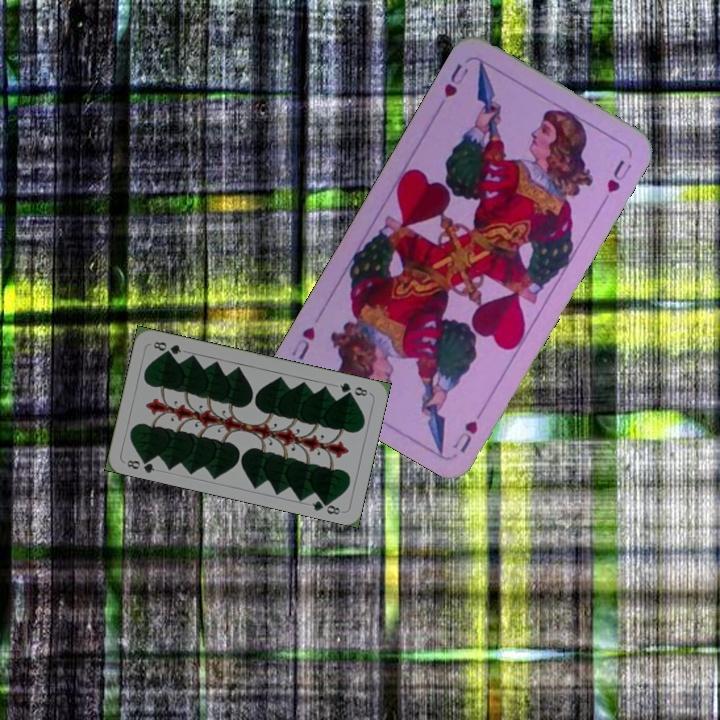G8: (123, 453, 157, 476), (336, 378, 370, 399)
HU: (449, 402, 488, 456), (439, 60, 472, 100)
